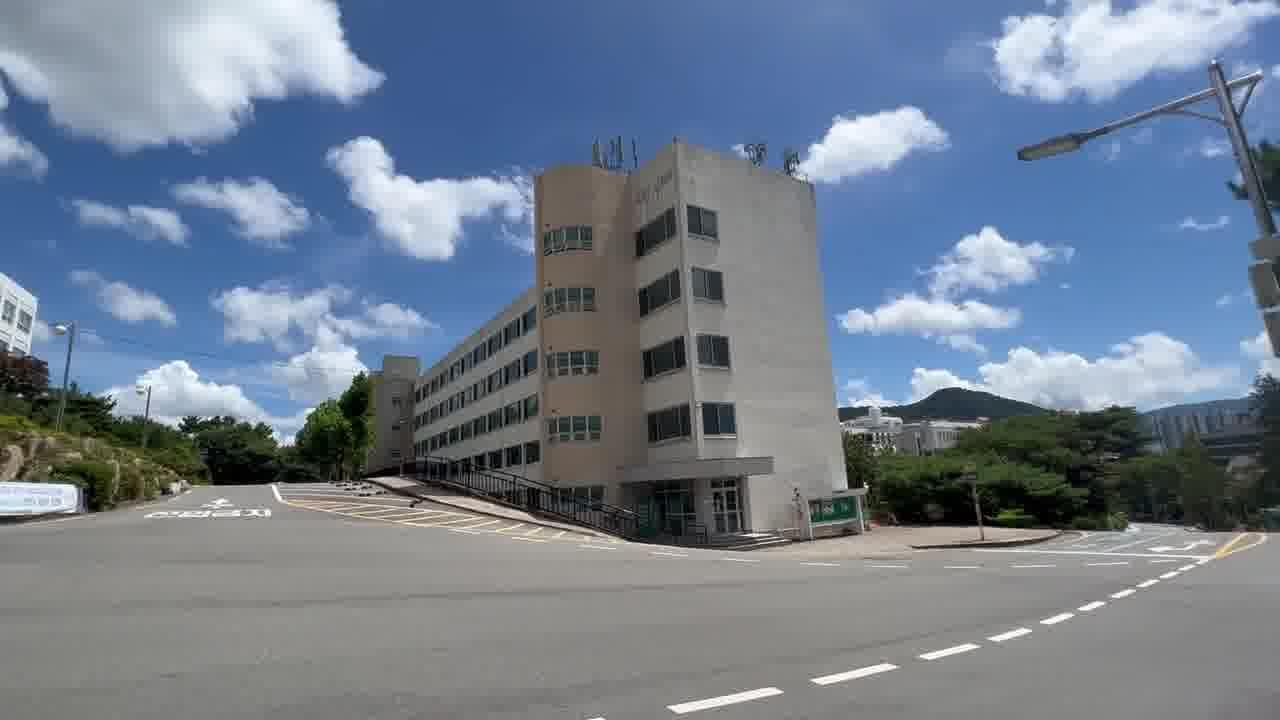building: (385, 143, 876, 527)
